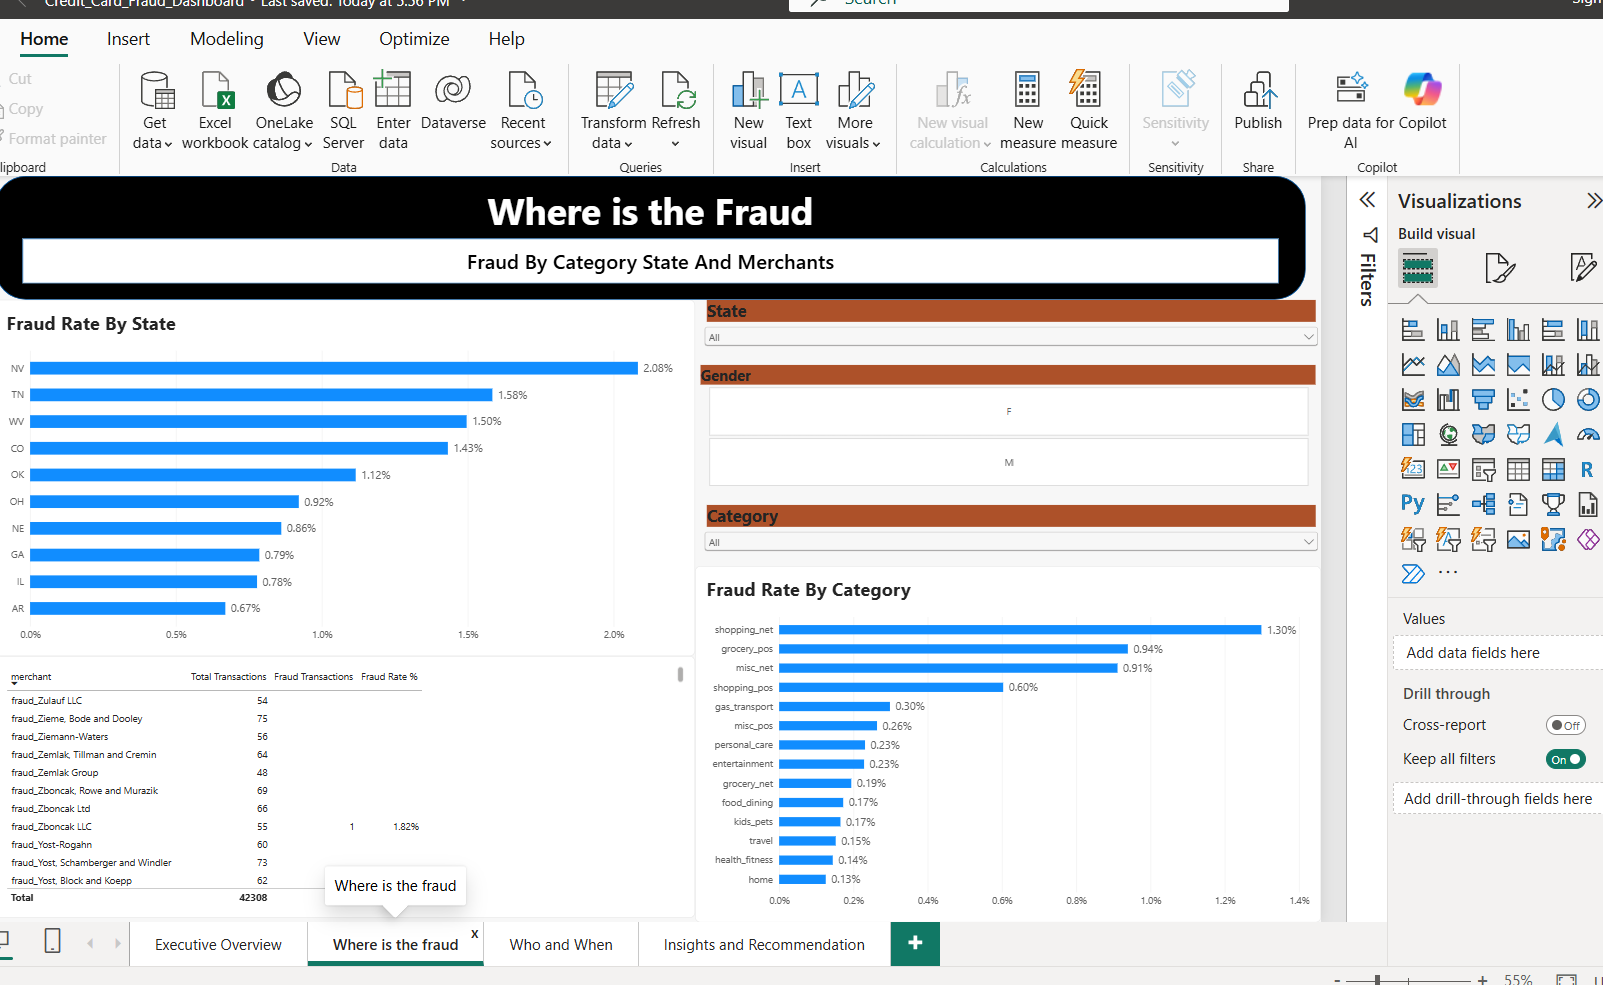

The page's visual inventory and layout, read from the dashboard file:
{"tool":"powerbi","page":{"name":"Where is the fraud","canvas":[1920,1080],"ordinal":1},"visuals":[{"type":"clusteredBarChart","title":"Fraud Rate By Category","fields":{"Category":["cc_data.category"],"Y":["cc_data.Fraud Rate %"]},"box":[1013.4,564.6,906.6,515.8],"z":0},{"type":"clusteredBarChart","title":"Fraud Rate By State","fields":{"Category":["cc_data.state"],"Y":["cc_data.Fraud Rate %"]},"box":[0,179.1,1014,516.3],"z":1},{"type":"tableEx","fields":{"Values":["cc_data.merchant","cc_data.Total Transactions","cc_data.Fraud Transactions","cc_data.Fraud Rate %"]},"box":[0,695.3,1014,379.1],"z":2},{"type":"shape","box":[0,0,1897.7,179.1],"z":4},{"type":"shape","box":[39.5,90.7,1818.6,65.1],"z":5},{"type":"slicer","fields":{"Values":["cc_data.state"]},"box":[1022.5,179.2,897.6,81.4],"z":6},{"type":"slicer","fields":{"Values":["cc_data.gender"]},"box":[1013.4,273.3,906.6,177.3],"z":7},{"type":"slicer","fields":{"Values":["cc_data.category"]},"box":[1022.5,475.9,897.6,86.9],"z":8}]}

Visuals, with their boxes on the page's 1920x1080 design canvas (x1, y1, x2, y2). These are canvas units, not pixel positions in the 1603x985 screenshot, which may show the page scaled, cropped or inside an application window:
"Fraud Rate By Category" clusteredBarChart: (x1=1013, y1=565, x2=1920, y2=1080)
"Fraud Rate By State" clusteredBarChart: (x1=0, y1=179, x2=1014, y2=695)
tableEx - cc_data.merchant x cc_data.Total Transactions: (x1=0, y1=695, x2=1014, y2=1074)
shape: (x1=0, y1=0, x2=1898, y2=179)
shape: (x1=40, y1=91, x2=1858, y2=156)
slicer - cc_data.state: (x1=1022, y1=179, x2=1920, y2=261)
slicer - cc_data.gender: (x1=1013, y1=273, x2=1920, y2=451)
slicer - cc_data.category: (x1=1022, y1=476, x2=1920, y2=563)
